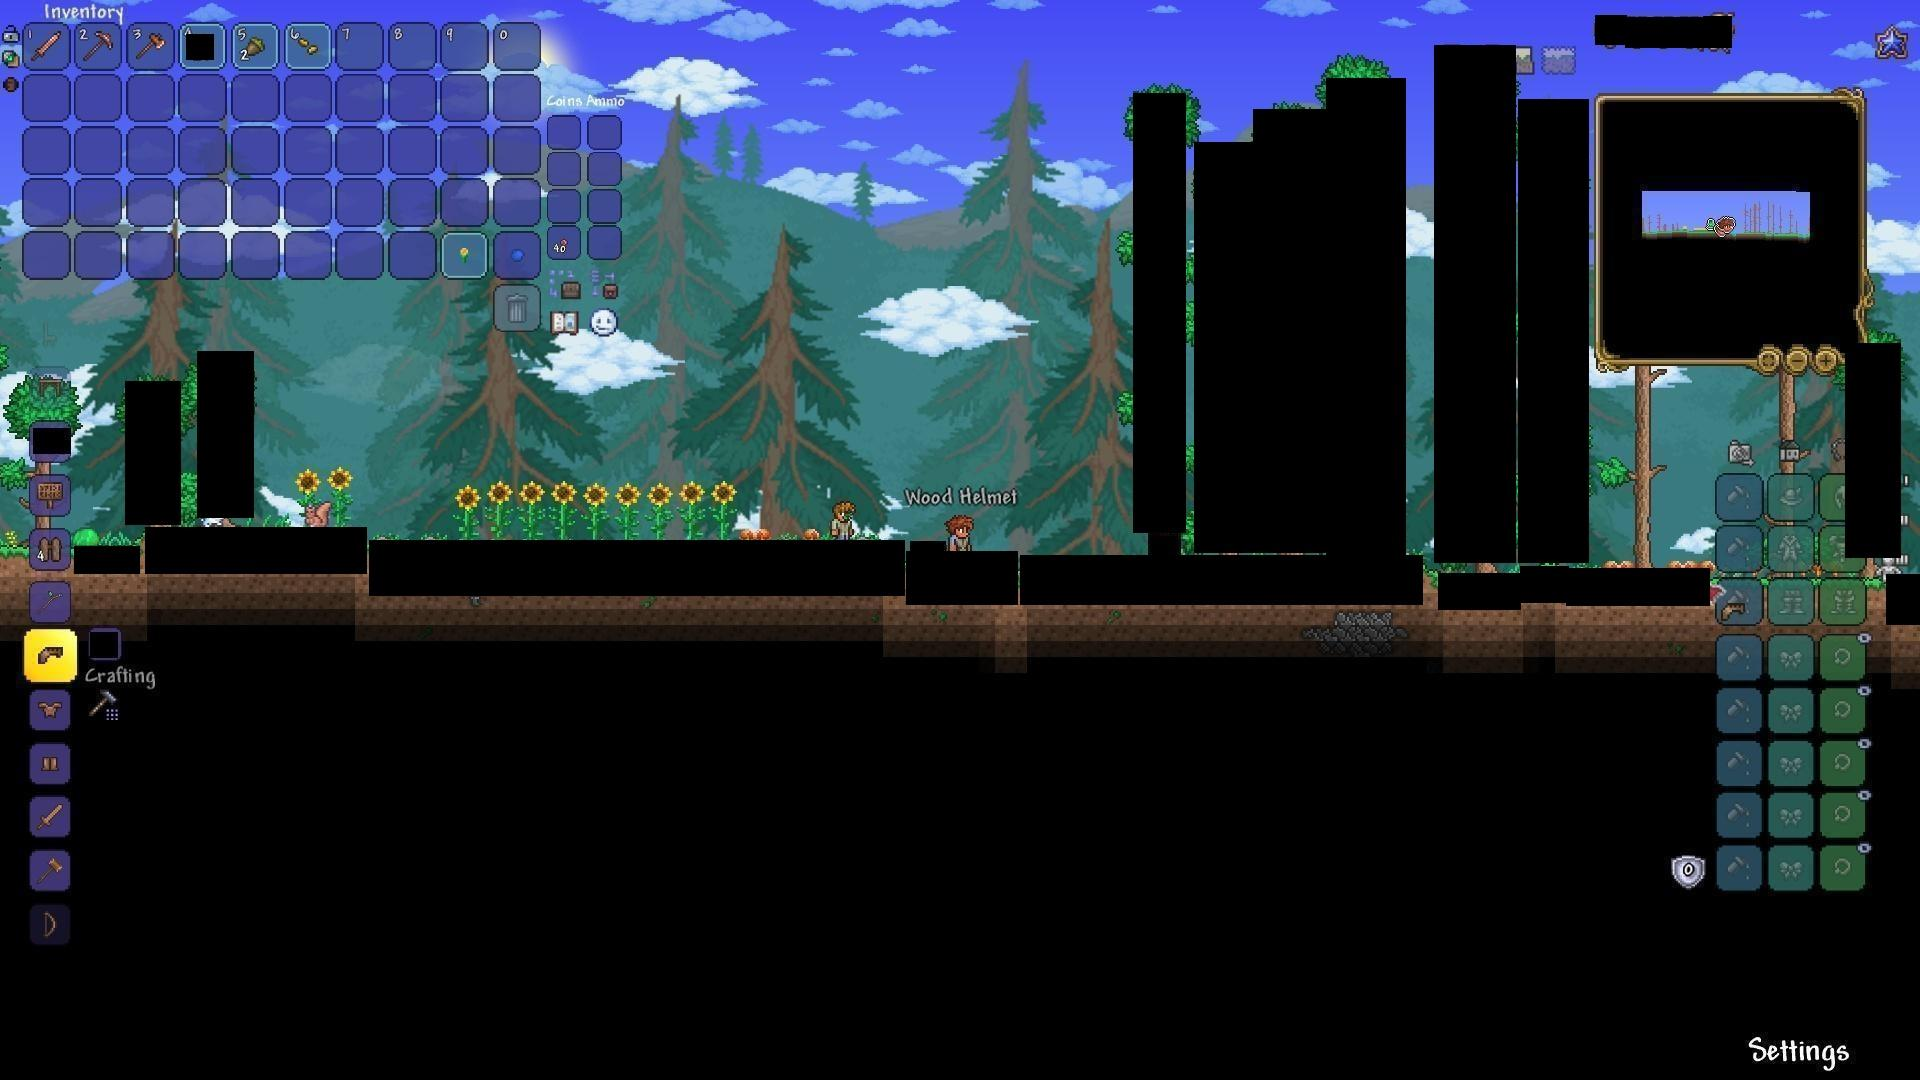breastplate: (36, 698, 65, 719)
dirt: (0, 539, 28, 575)
helmet: (37, 640, 69, 669), (1720, 600, 1749, 626)
legs: (40, 748, 65, 777)
slime: (76, 525, 102, 553)
tree: (1614, 363, 1667, 564)
